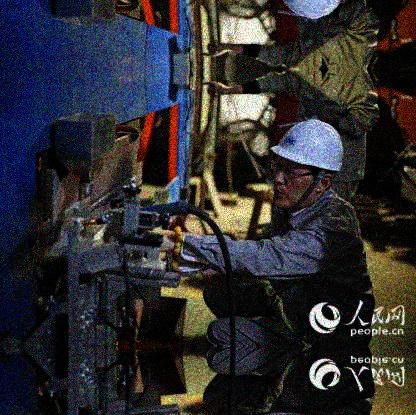helmet: (268, 118, 346, 212)
